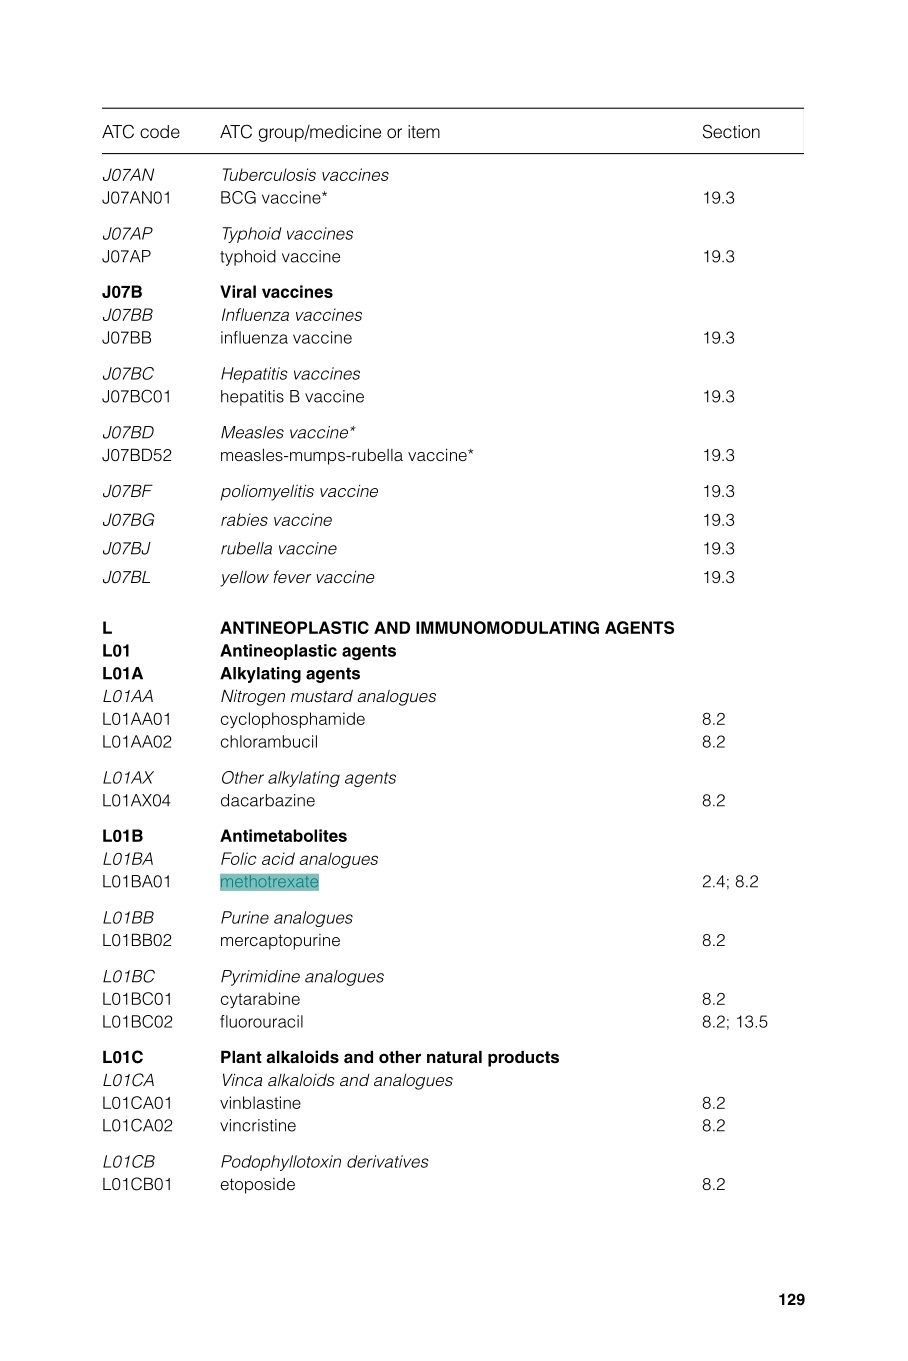partial_lined_merged_cells: (101, 106, 805, 1195)
